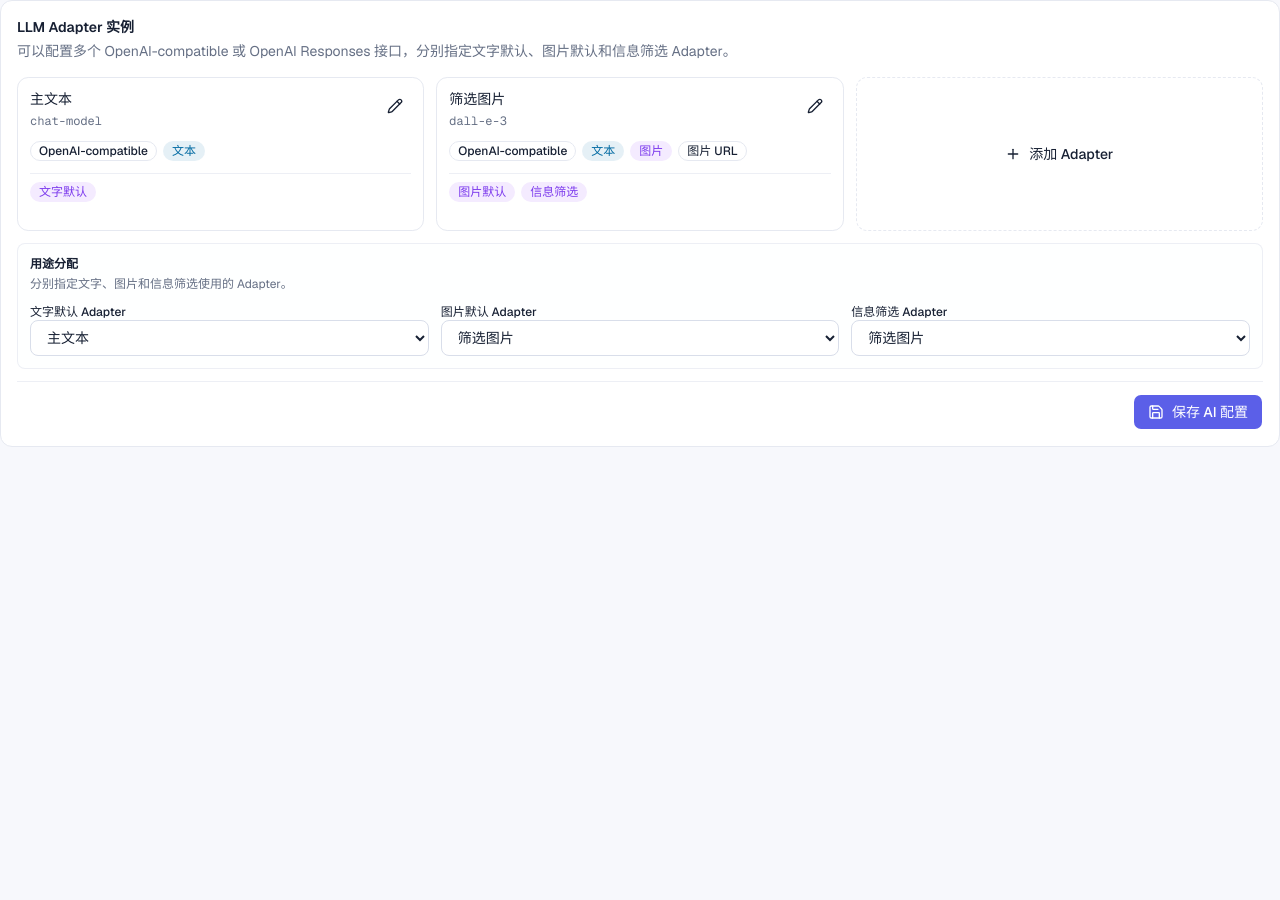
Test: AISection › shows compact adapter cards and keeps endpoint details inside the editor dialog
Expected: the element with test id "llm-adapter-card-chat-main" shows "主文本", [30, 90, 72, 108]
Expected: the element with test id "llm-adapter-card-chat-main" shows "chat-model", [30, 113, 102, 129]
Click the button named "编辑 Adapter 主文本": (395,106) [379, 90, 411, 122]
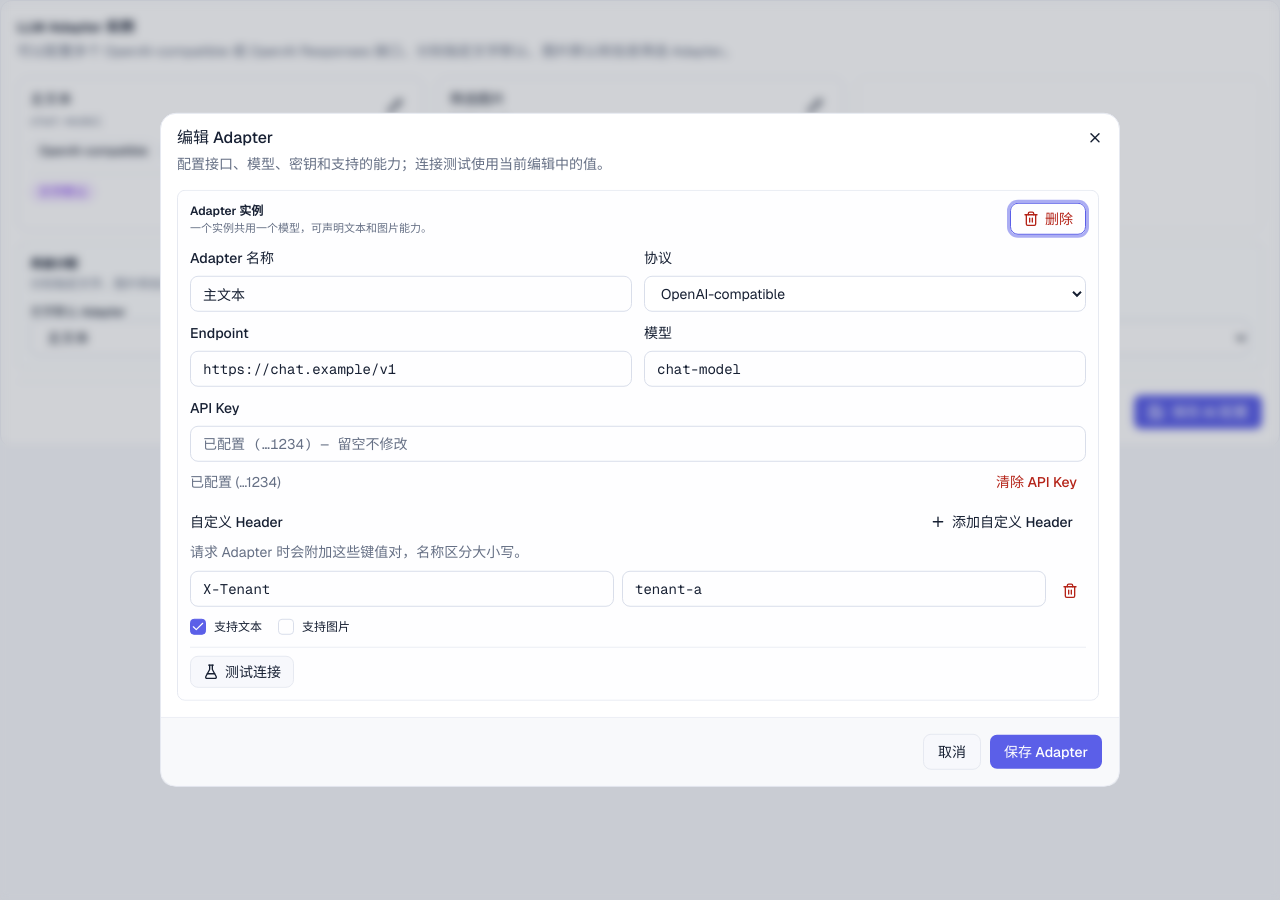
Expected: the dialog shows "编辑 Adapter", [177, 127, 273, 148]
Expected: the field showing "https://chat.example/v1" is shown, [190, 351, 632, 387]
